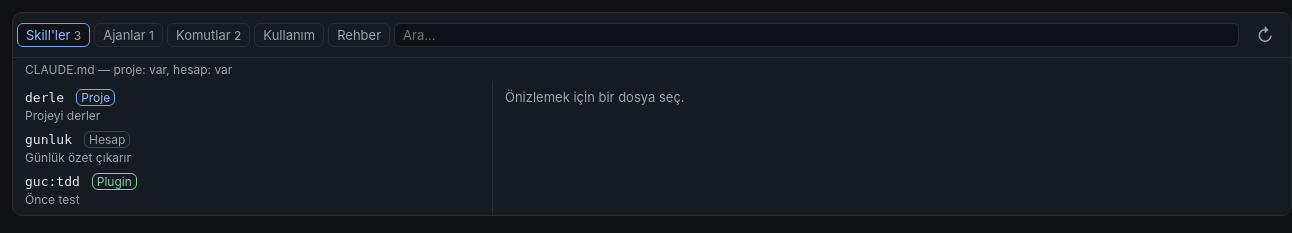
ClaudePanel › searches names and descriptions (Turkish-insensitive)
Type "GÜNLÜK" into the search field labelled "Ara" at (816, 35), box [394,23,1239,47]
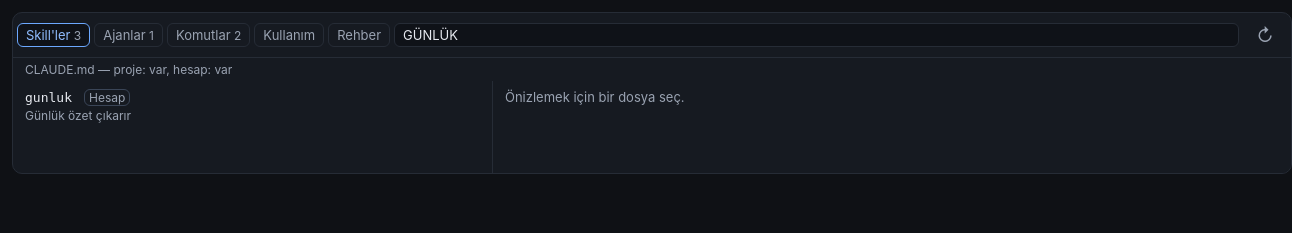
Replace the text in the search field named "Ara" with "yok-böyle" at (816, 35), box [394,23,1239,47]
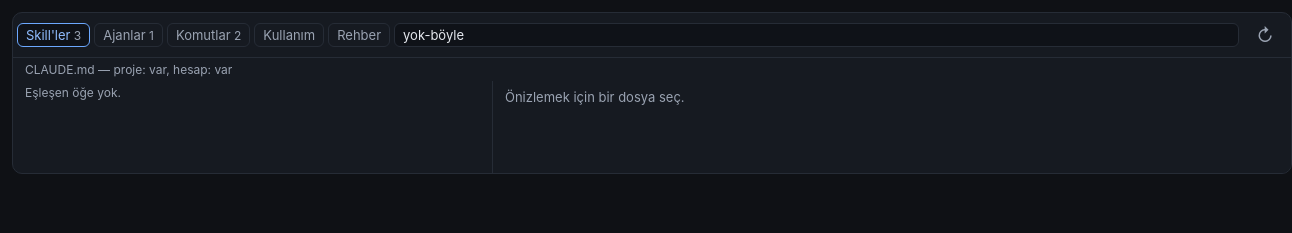
Check: the text "Eşleşen öğe yok." is shown, box [25,85,121,100]
